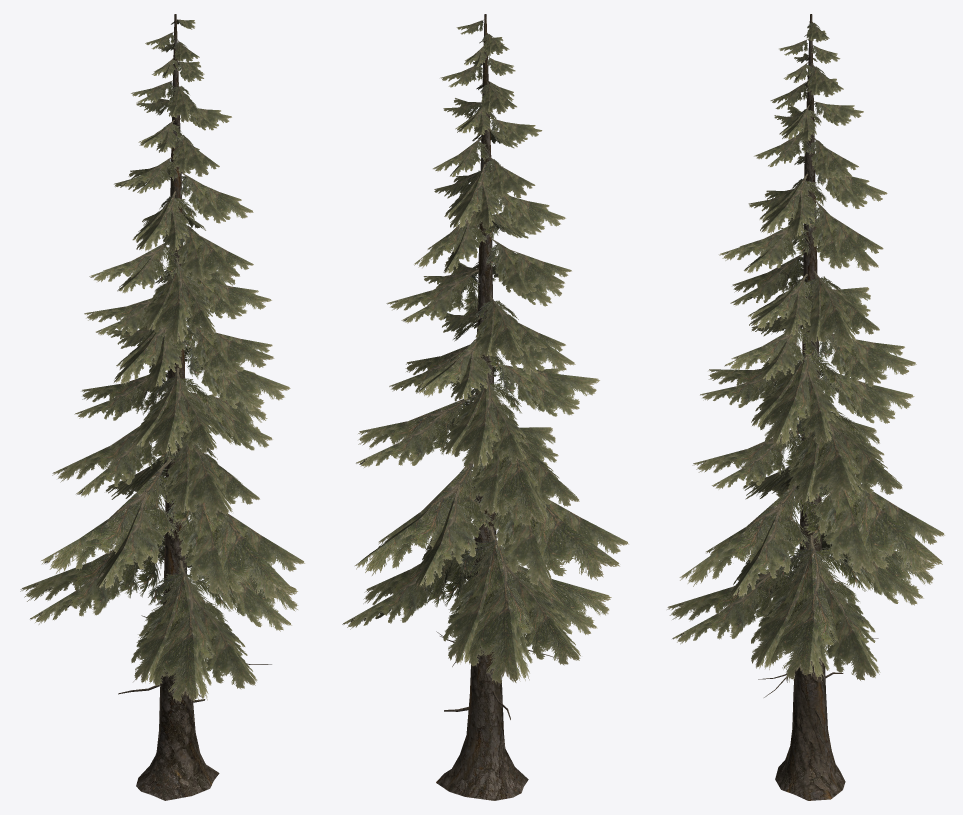
The model's file is arvore.glb.
3 views of the same model, side by side, from view 1: azimuth 30°, elevation 25°; view 2: azimuth 150°, elevation 25°; view 3: azimuth 270°, elevation 25° (orthographic).
Parts seen in each view (by area): view 1: Plane_002_Branches_0, Circle_001_Bark_0, Plane_006_Branches_0, Plane_005_Branches_0, Plane_012_Branches_0, Plane_001_Branches_0, Plane_009_Branches_0, Plane_016_Branches_0, Plane_008_Branches_0, Plane_010_Branches_0, Plane_013_Branches_0, Plane_015_Branches_0 (+16 smaller); view 2: Plane_001_Branches_0, Circle_001_Bark_0, Plane_005_Branches_0, Plane_003_Branches_0, Plane_008_Branches_0, Plane_011_Branches_0, Plane_004_Branches_0, Plane_007_Branches_0, Plane_012_Branches_0, Plane_018_Branches_0, Plane_021_Branches_0, Plane_014_Branches_0 (+16 smaller); view 3: Plane_004_Branches_0, Circle_001_Bark_0, Plane_003_Branches_0, Plane_006_Branches_0, Plane_007_Branches_0, Plane_010_Branches_0, Plane_002_Branches_0, Plane_017_Branches_0, Plane_014_Branches_0, Plane_009_Branches_0, Plane_020_Branches_0, Plane_001_Branches_0 (+16 smaller).
Boxes of the visible parts, box(x1,y1,x2,y2) form: Plane_002_Branches_0: box(131, 560, 257, 702); Circle_001_Bark_0: box(136, 14, 219, 800); Plane_006_Branches_0: box(166, 500, 304, 600); Plane_005_Branches_0: box(41, 459, 200, 590); Plane_012_Branches_0: box(132, 367, 217, 456); Plane_001_Branches_0: box(20, 525, 164, 624); Plane_009_Branches_0: box(165, 434, 259, 518); Plane_016_Branches_0: box(144, 258, 215, 343); Plane_008_Branches_0: box(52, 426, 174, 497); Plane_010_Branches_0: box(184, 345, 290, 411); Plane_013_Branches_0: box(182, 324, 274, 377); Plane_015_Branches_0: box(114, 323, 198, 387); Plane_001_Branches_0: box(443, 526, 580, 684); Circle_001_Bark_0: box(436, 14, 528, 800); Plane_005_Branches_0: box(478, 494, 628, 585); Plane_003_Branches_0: box(355, 461, 515, 587); Plane_008_Branches_0: box(469, 432, 579, 526); Plane_011_Branches_0: box(443, 374, 526, 468); Plane_004_Branches_0: box(342, 533, 474, 629); Plane_007_Branches_0: box(356, 394, 475, 468); Plane_012_Branches_0: box(493, 364, 599, 416); Plane_018_Branches_0: box(475, 295, 546, 360); Plane_021_Branches_0: box(486, 239, 571, 295); Plane_014_Branches_0: box(416, 336, 505, 401); Plane_004_Branches_0: box(751, 535, 880, 682); Circle_001_Bark_0: box(775, 14, 845, 800); Plane_003_Branches_0: box(808, 482, 944, 574); Plane_006_Branches_0: box(679, 483, 829, 597); Plane_007_Branches_0: box(788, 410, 902, 503); Plane_010_Branches_0: box(751, 349, 842, 446); Plane_002_Branches_0: box(667, 555, 799, 644); Plane_017_Branches_0: box(802, 271, 879, 347); Plane_014_Branches_0: box(818, 333, 916, 386); Plane_009_Branches_0: box(692, 429, 802, 489); Plane_020_Branches_0: box(805, 200, 883, 271); Plane_001_Branches_0: box(789, 525, 935, 605).
Size of the model in its own units: 3.44 by 9.53 by 3.25.
2 materials, 2 textured.
